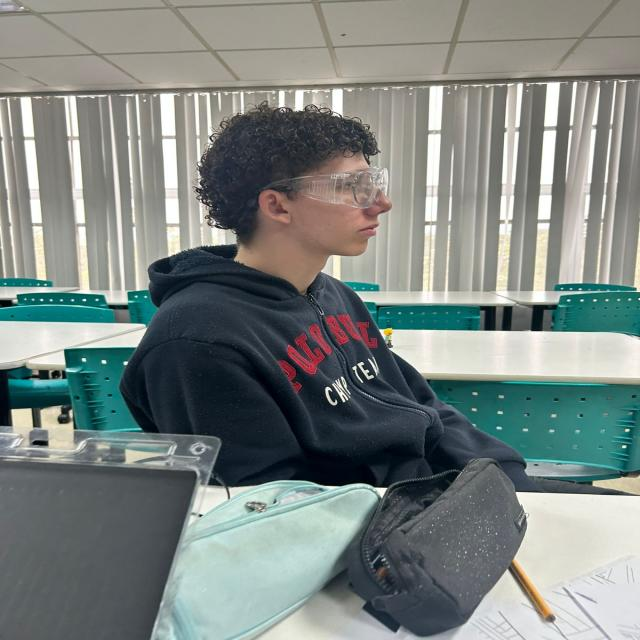oculos-epi: (259, 165, 391, 211)
